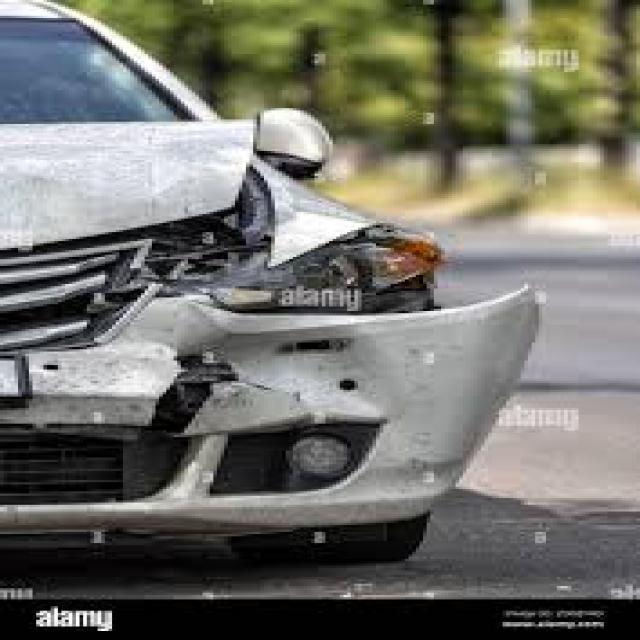severe: (33, 146, 446, 500)
